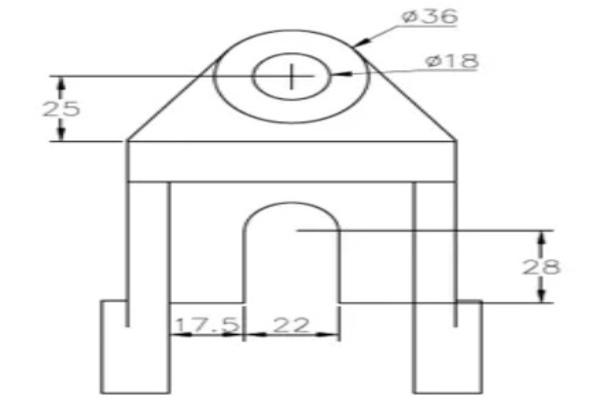dimensions: (170, 312, 244, 338), (394, 0, 462, 27), (420, 49, 482, 71), (517, 255, 568, 279), (39, 94, 86, 120), (262, 312, 318, 333)
